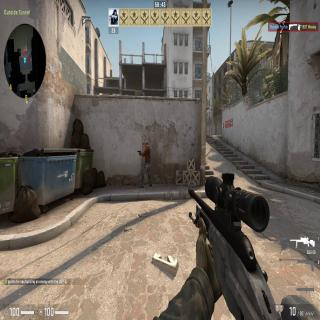T-Body: (138, 140, 153, 187)
T-Head: (144, 140, 147, 148)
